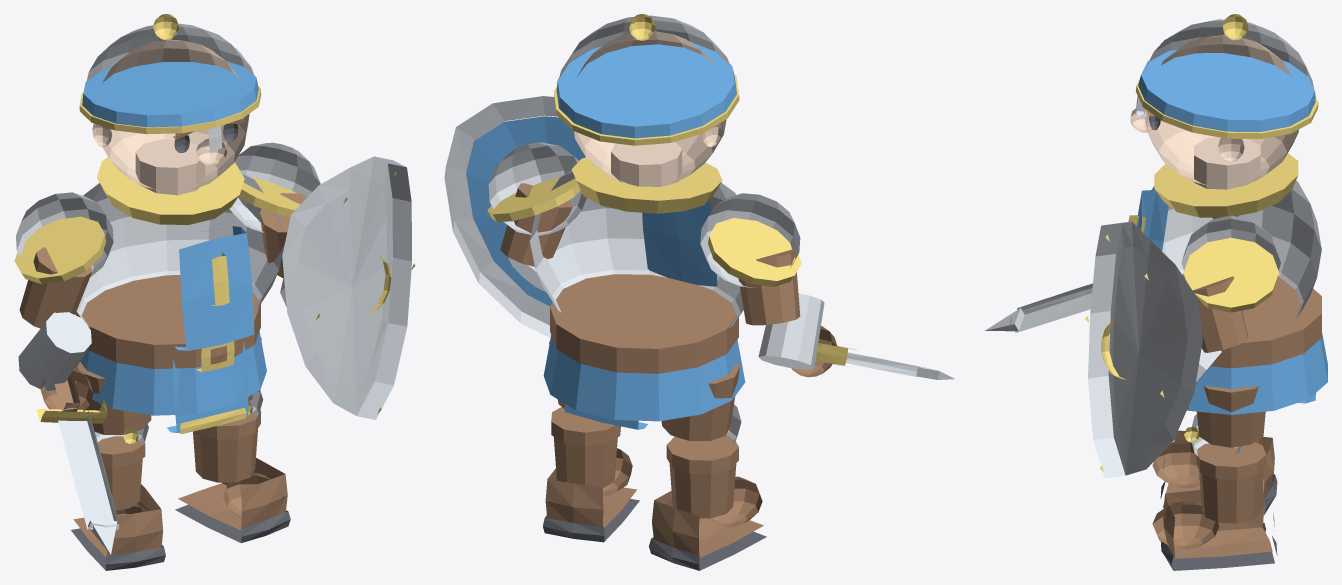
The model's file is escudero.glb.
The picture shows the model from 3 angles, left to right: view 1: azimuth 30°, elevation 25°; view 2: azimuth 150°, elevation 25°; view 3: azimuth 270°, elevation 25°; orthographic projection. The views are drawn at different scales.
Visible parts, largest first — view 1: Squire; view 2: Squire; view 3: Squire.
Boxes of the visible parts, box(x1,y1,x2,y2) form: Squire: box(14, 14, 415, 570); Squire: box(444, 14, 954, 570); Squire: box(985, 14, 1327, 570).
Bounding box in the file's own units: 1.13 × 1.37 × 0.8331.
